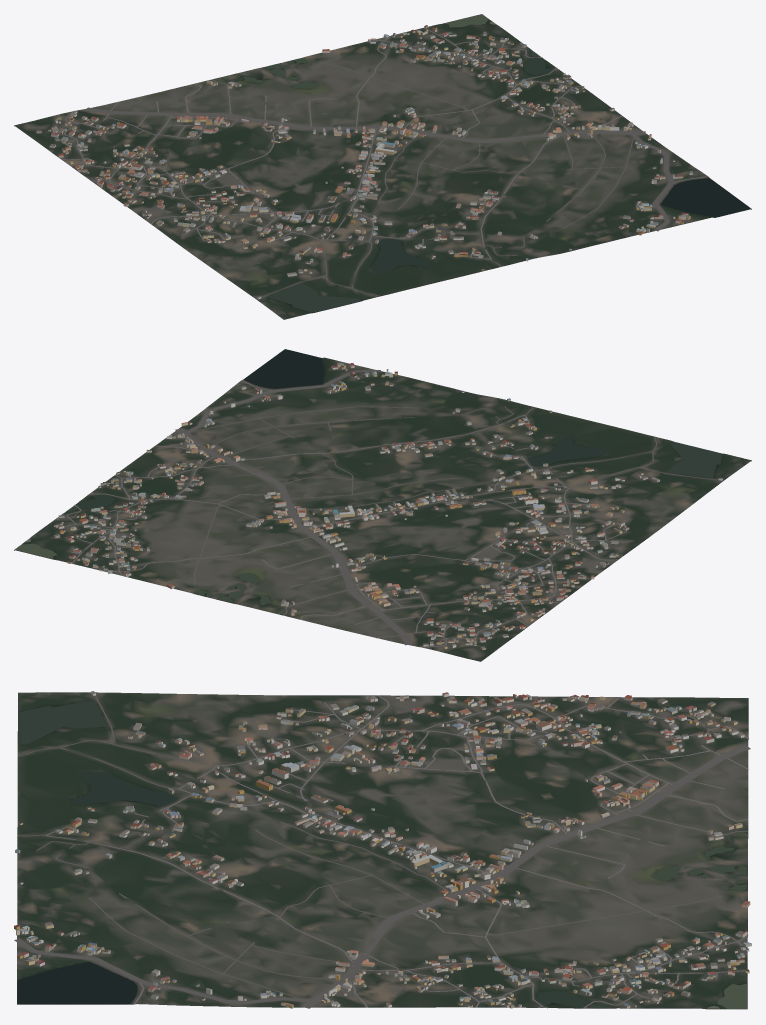
3 renders of one model, top to bottom at view 1: azimuth 30°, elevation 25°; view 2: azimuth 150°, elevation 25°; view 3: azimuth 270°, elevation 25°, orthographic. The views are drawn at different scales.
Visible parts, largest first — view 1: ground, buildings, roads, water; view 2: ground, buildings, roads, water; view 3: ground, buildings, roads, water.
Boxes of the visible parts, x1,y1,x2,y2 form: ground: (14,14,751,319); buildings: (36,25,692,299); roads: (61,27,708,296); water: (243,14,750,312); ground: (14,349,751,661); buildings: (53,362,722,649); roads: (65,370,714,647); water: (15,349,722,605); ground: (17,692,748,1009); buildings: (14,691,751,1008); roads: (14,695,750,1008); water: (17,700,747,1008).
Size of the model in its own units: 1408 by 27.01 by 1416.
